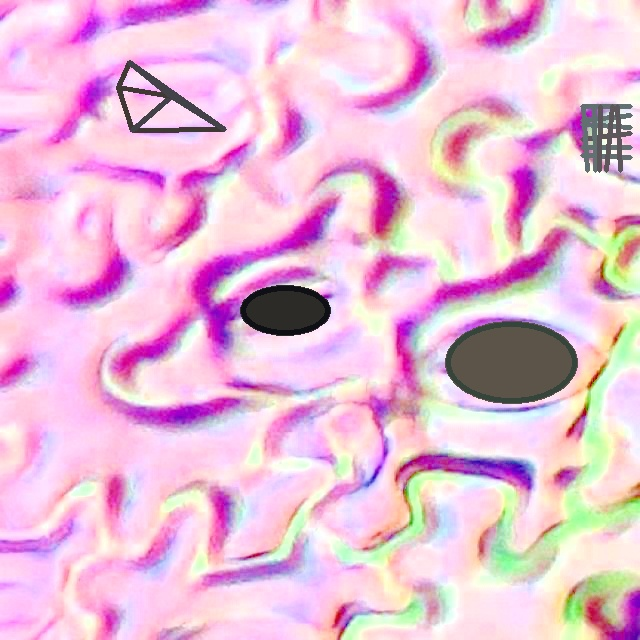close: (117, 60, 225, 131), (240, 285, 330, 334)
open: (445, 321, 578, 403), (580, 105, 632, 172)
